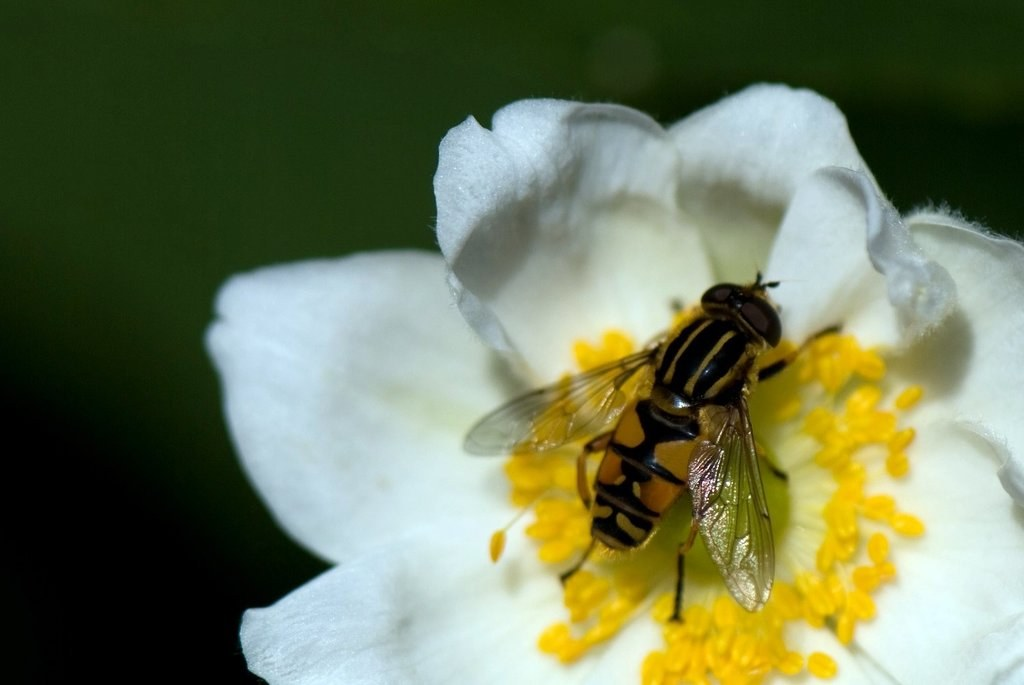bee: (478, 251, 801, 637)
insect: (206, 81, 1023, 684)
